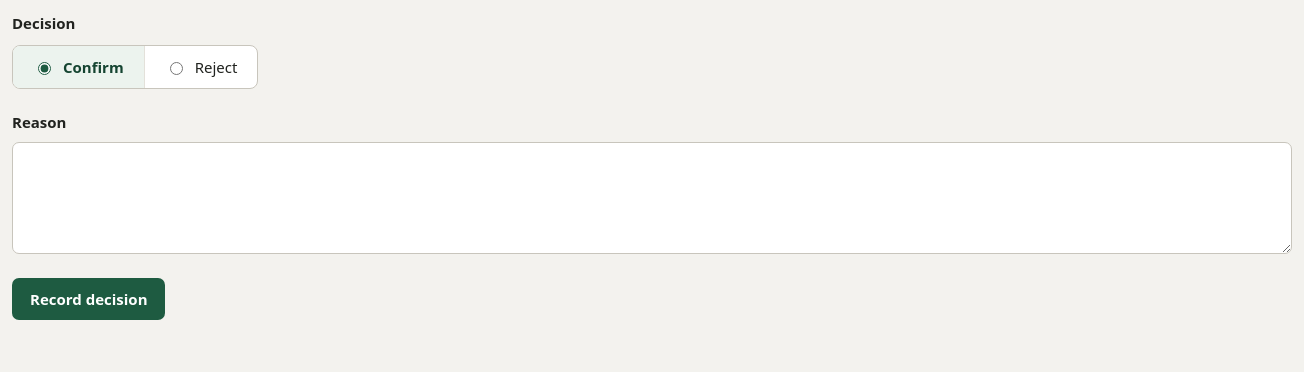
Test: DecisionForm confirmation mode › requires a reason before confirming
The image size is (1304, 372).
Click the button "Record decision" at (89, 299), box [12,278,166,320]
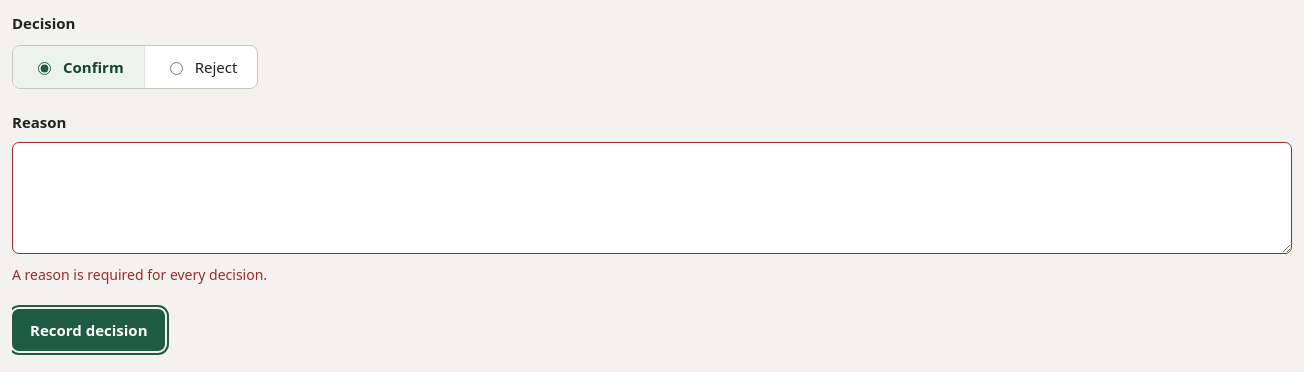
Expected: the message shows "reason is required", [12,264,267,284]
